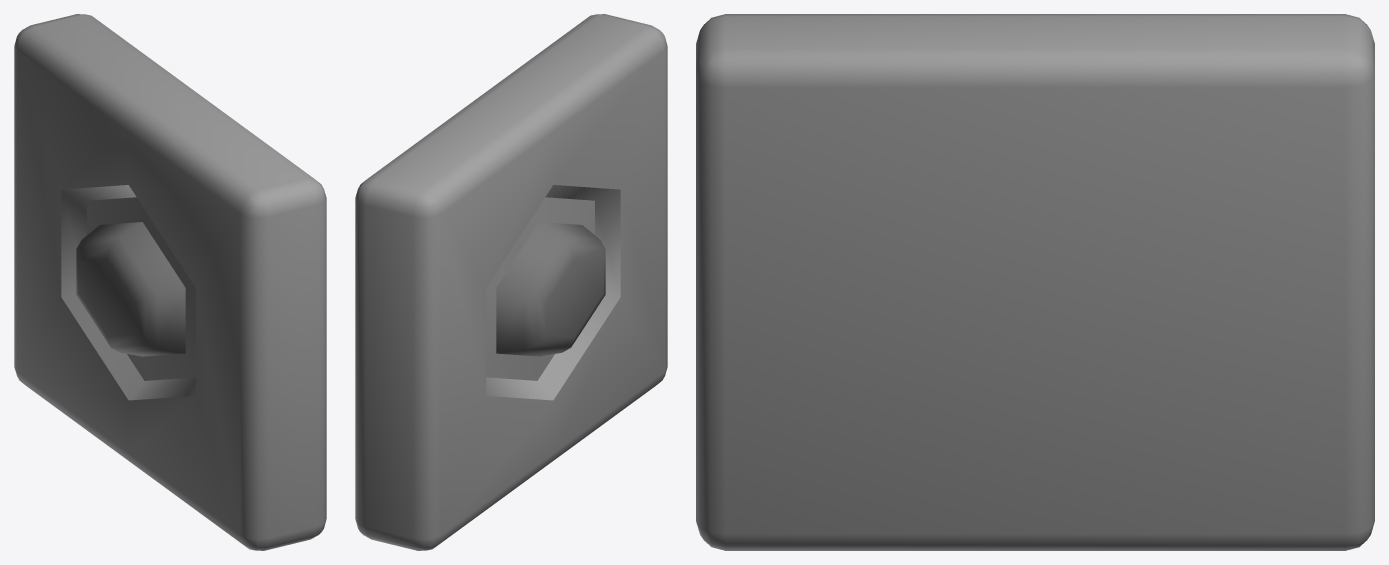
Rendered from Closet Button.fbx.
The picture shows the model from 3 angles, left to right: view 1: azimuth 30°, elevation 25°; view 2: azimuth 150°, elevation 25°; view 3: azimuth 270°, elevation 25°; orthographic projection. The views are drawn at different scales.
Visible parts, largest first — view 1: Closet Button; view 2: Closet Button; view 3: Closet Button.
Boxes of the visible parts, bbox=[...] form: Closet Button: bbox=[14, 14, 326, 550]; Closet Button: bbox=[355, 14, 667, 550]; Closet Button: bbox=[696, 14, 1374, 550].
Bounding box in the file's own units: 0.0393 × 0.1582 × 0.1285.
